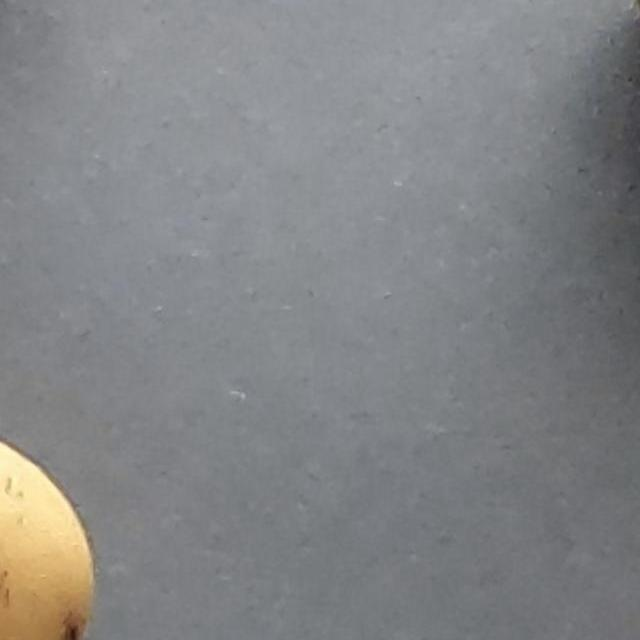potato: (0, 282, 232, 640)
